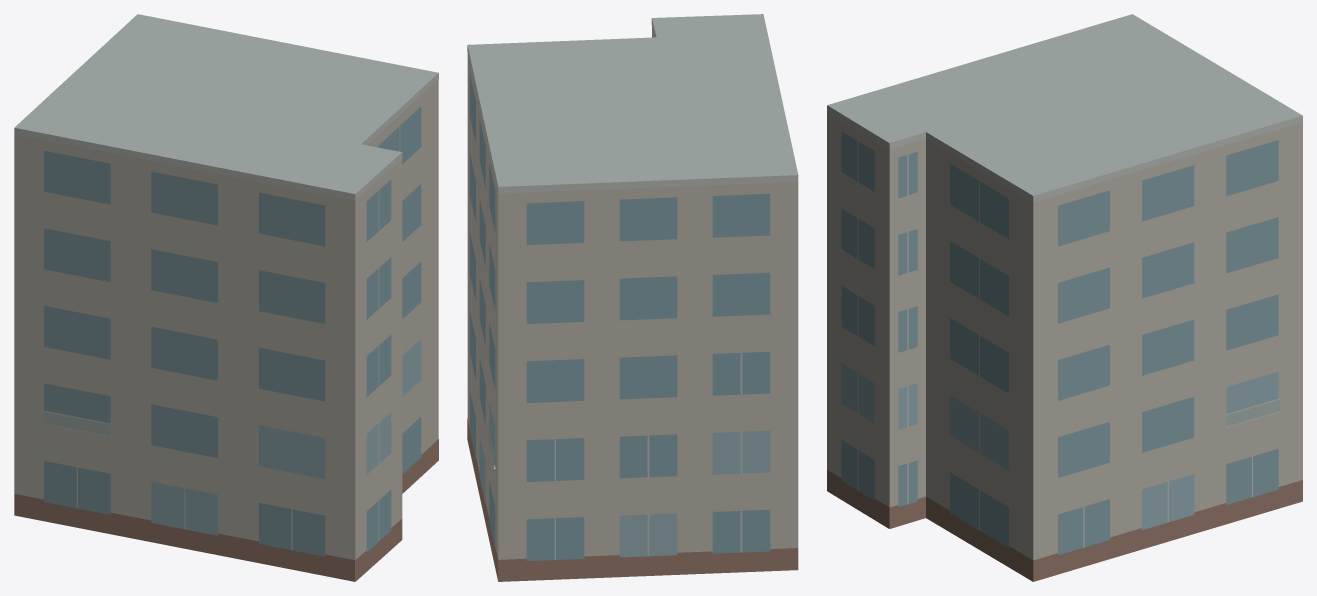
Rendered from survey-upis-32892097.glb.
3 views of the same model, side by side, from view 1: azimuth 30°, elevation 25°; view 2: azimuth 150°, elevation 25°; view 3: azimuth 270°, elevation 25° (orthographic). The views are drawn at different scales.
Visible parts, largest first — view 1: survey-upis-32892097.tmp; view 2: survey-upis-32892097.tmp; view 3: survey-upis-32892097.tmp.
Boxes of the visible parts, x1,y1,x2,y2 form: survey-upis-32892097.tmp: [14, 14, 438, 581]; survey-upis-32892097.tmp: [467, 14, 798, 581]; survey-upis-32892097.tmp: [827, 14, 1302, 581].
Bounding box in the file's own units: 14.67 × 14.5 × 16.21.
